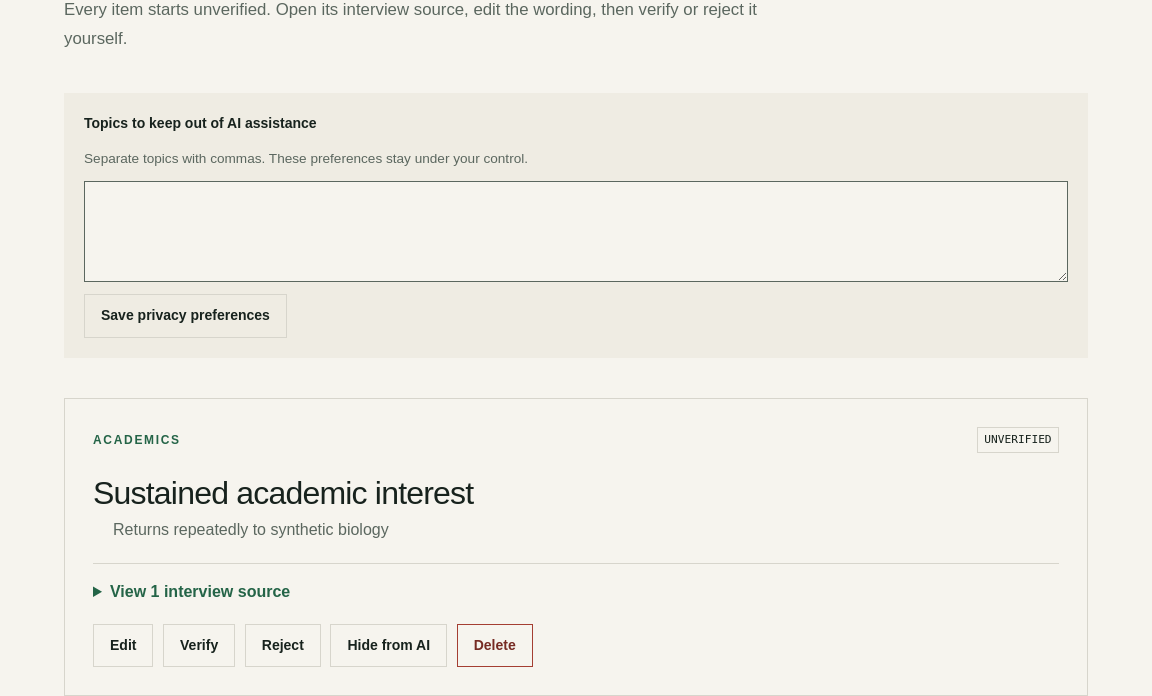
Test: Story Vault review › suppresses a fact from AI and offers restoration
(page scrolled)
Click the button "Hide from AI" at (389, 645), box [330,624,447,667]
(page scrolled)
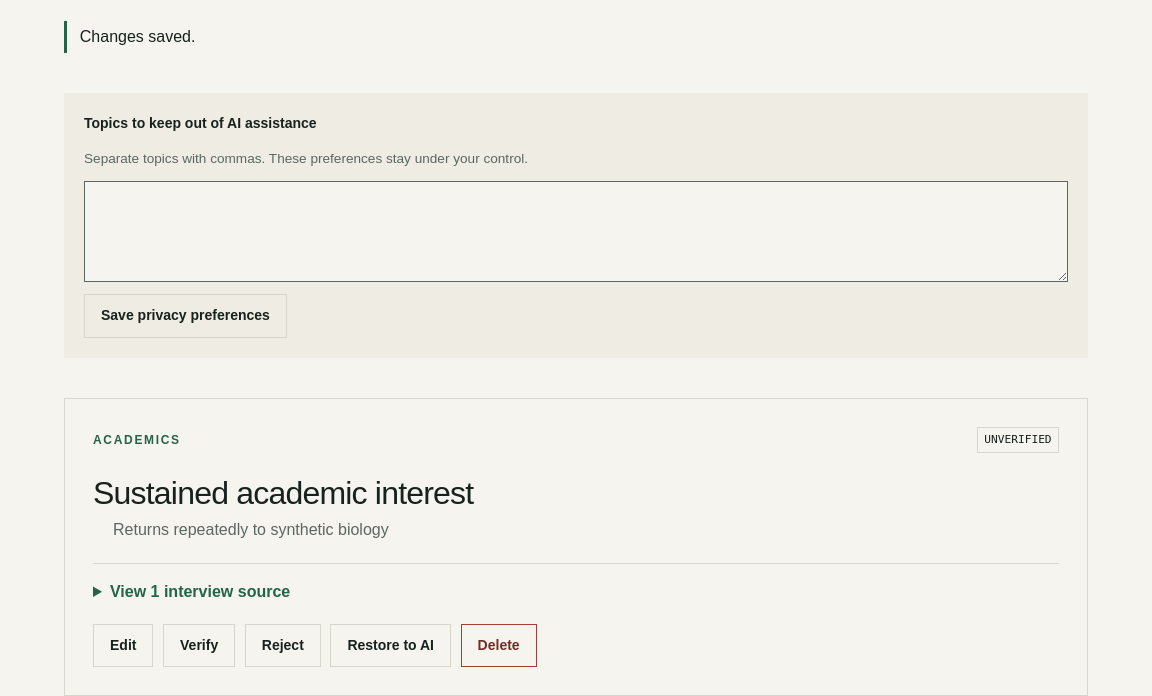
Result: the button "Restore to AI" is shown at [330,624,451,667]
